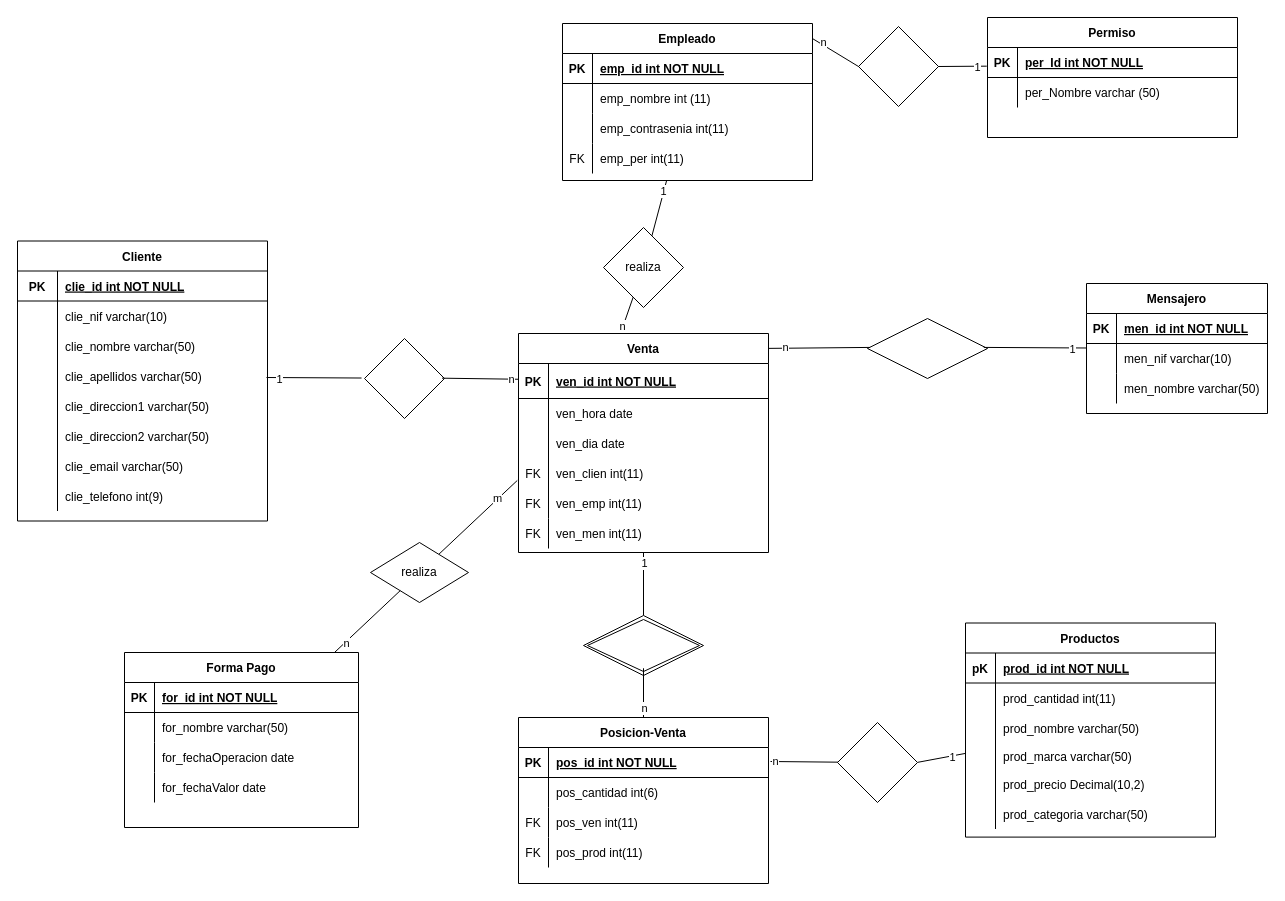
The diagram is 1285 pixels wide and 901 high, and some of its shapes have lost their labels. The centre of each missing label's shape, as x and y in pixels:
"Compuesta por" belongs at point (643, 645).
"contienen" belongs at point (877, 762).
"realizan" belongs at point (404, 378).
"Repartido por" belongs at point (927, 348).
"Tiene" belongs at point (898, 66).
